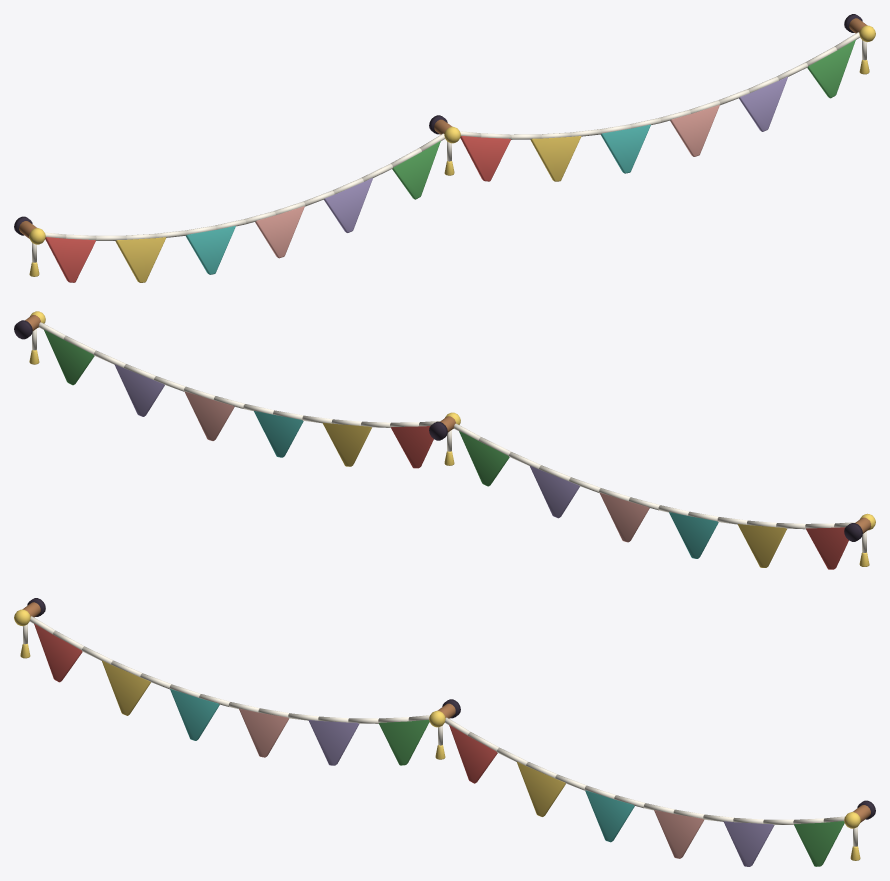
File: garlands.glb
3 renders of one model, top to bottom at view 1: azimuth 30°, elevation 25°; view 2: azimuth 150°, elevation 25°; view 3: azimuth 330°, elevation 25°, orthographic.
Parts seen in each view (by area): view 1: DecGarlands_CreamCords, DecGarlands_PennantsButter, DecGarlands_PennantsCoral, DecGarlands_PennantsTurquoise, DecGarlands_PennantsPeach, DecGarlands_PennantsLavender, DecGarlands_PennantsLeaf, DecGarlands_WoodPegs; view 2: DecGarlands_CreamCords, DecGarlands_PennantsButter, DecGarlands_PennantsLavender, DecGarlands_PennantsLeaf, DecGarlands_PennantsPeach, DecGarlands_PennantsTurquoise, DecGarlands_PennantsCoral, DecGarlands_WallCleats; view 3: DecGarlands_CreamCords, DecGarlands_PennantsButter, DecGarlands_PennantsLeaf, DecGarlands_PennantsLavender, DecGarlands_PennantsPeach, DecGarlands_PennantsTurquoise, DecGarlands_PennantsCoral, DecGarlands_WoodPegs.
Boxes of the visible parts, x1,y1,x2,y2 form: DecGarlands_CreamCords: (32, 32, 866, 262); DecGarlands_PennantsButter: (29, 25, 875, 282); DecGarlands_PennantsCoral: (45, 136, 510, 282); DecGarlands_PennantsTurquoise: (186, 124, 650, 274); DecGarlands_PennantsPeach: (255, 105, 719, 258); DecGarlands_PennantsLavender: (324, 76, 787, 232); DecGarlands_PennantsLeaf: (392, 39, 855, 199); DecGarlands_WoodPegs: (19, 18, 867, 238); DecGarlands_CreamCords: (32, 322, 866, 552); DecGarlands_PennantsButter: (29, 311, 875, 567); DecGarlands_PennantsLavender: (114, 364, 579, 518); DecGarlands_PennantsLeaf: (44, 329, 509, 486); DecGarlands_PennantsPeach: (184, 391, 649, 542); DecGarlands_PennantsTurquoise: (254, 411, 718, 558); DecGarlands_PennantsCoral: (391, 426, 848, 569); DecGarlands_WallCleats: (14, 320, 862, 541); DecGarlands_CreamCords: (23, 616, 857, 846); DecGarlands_PennantsButter: (14, 609, 860, 860); DecGarlands_PennantsLeaf: (379, 720, 844, 866); DecGarlands_PennantsLavender: (308, 720, 774, 866); DecGarlands_PennantsPeach: (239, 708, 704, 858); DecGarlands_PennantsTurquoise: (170, 689, 634, 842); DecGarlands_PennantsCoral: (34, 623, 497, 783); DecGarlands_WoodPegs: (22, 602, 870, 822).
Size of the model in its own units: 2.57 by 0.2538 by 0.104.
